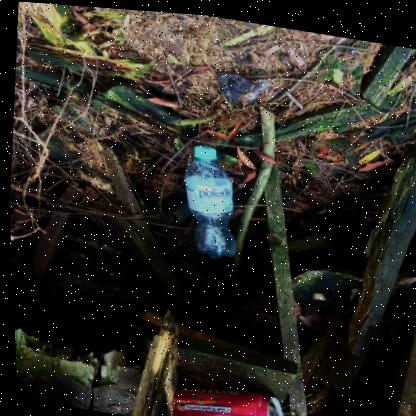Metal: (166, 384, 279, 416), (268, 405, 277, 416)
Plastic: (182, 142, 233, 255)
Waste: (192, 142, 214, 153)
